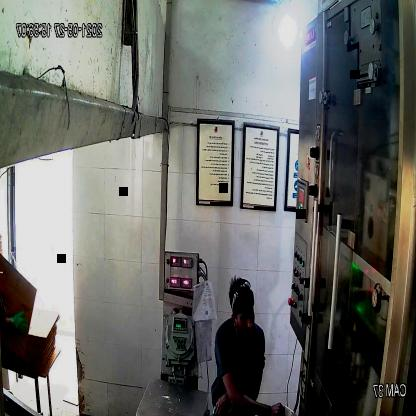no_goggles: (234, 306, 257, 326)
